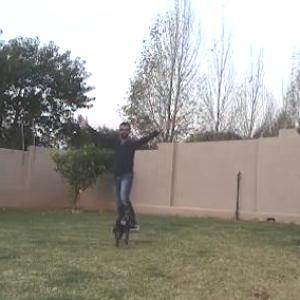takeoff: (92, 113, 186, 230)
